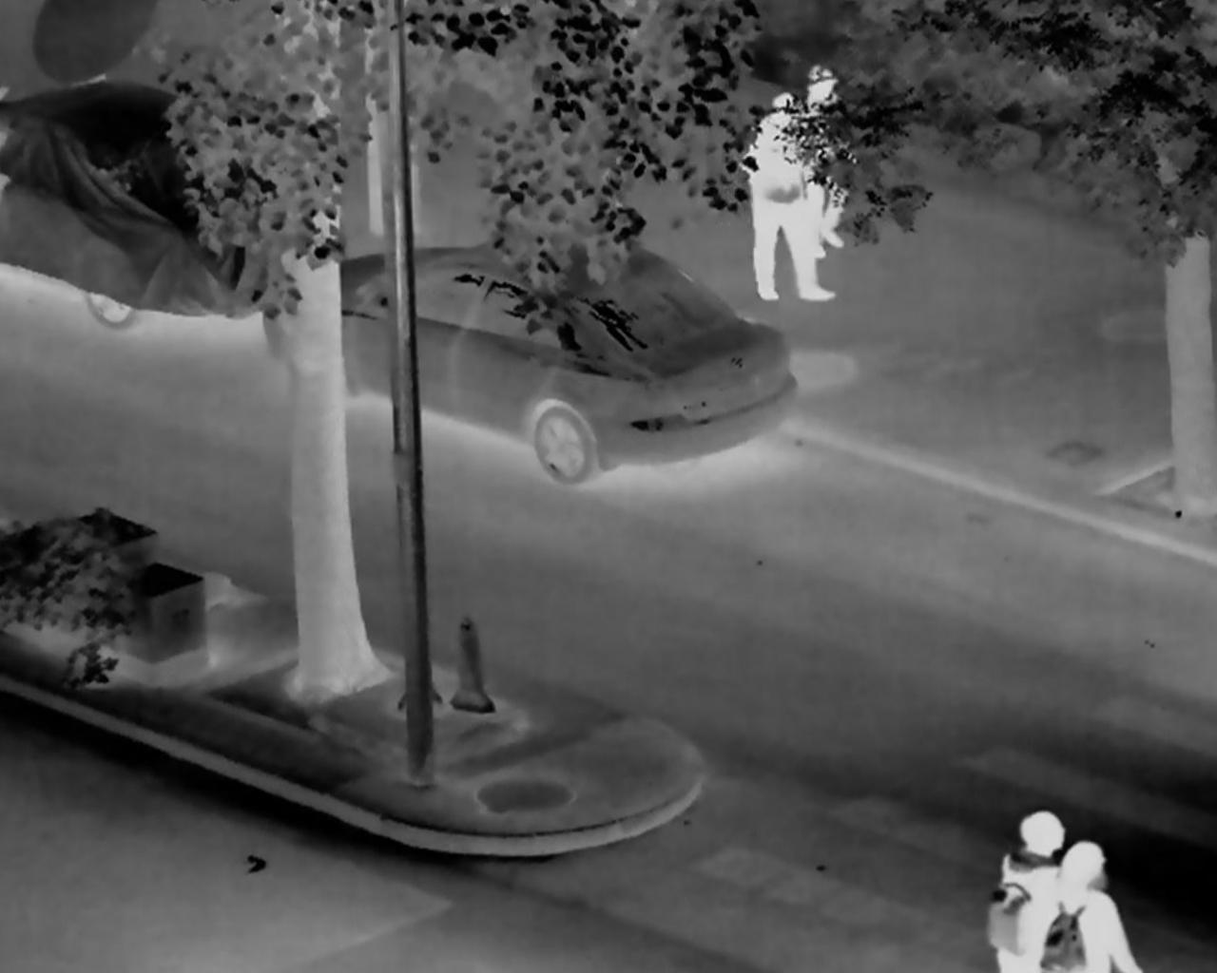person: (737, 94, 830, 302), (991, 813, 1066, 973), (1050, 839, 1139, 973), (786, 65, 845, 258)
